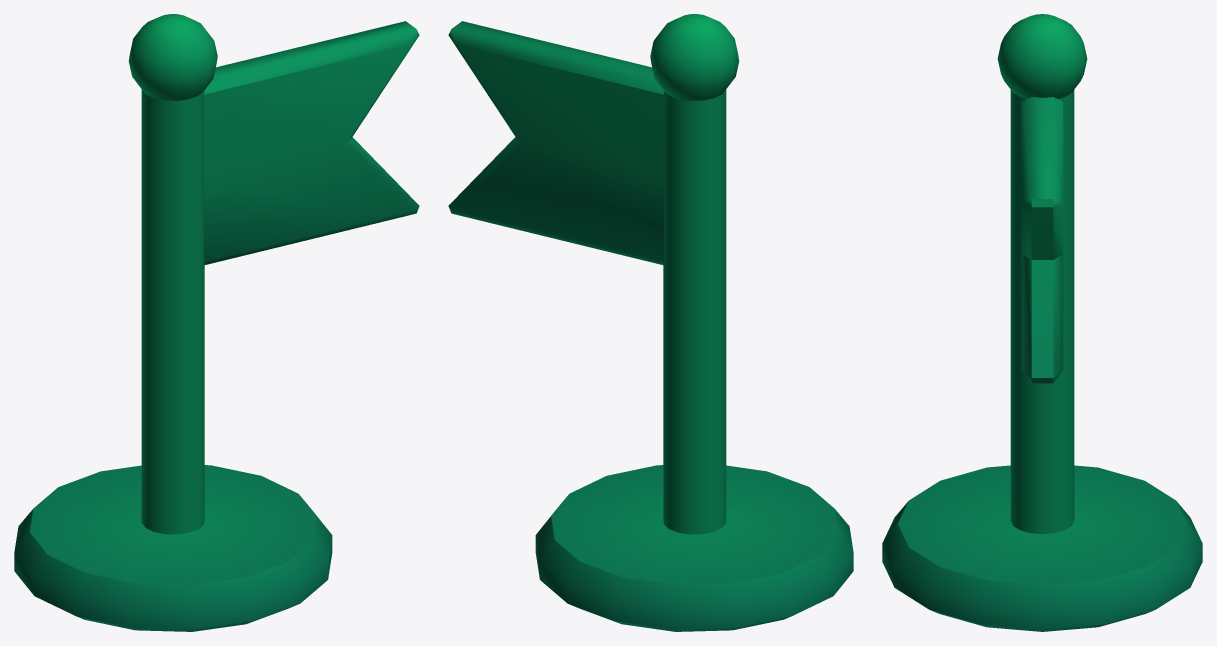
File: flag_B_green.obj
The picture shows the model from 3 angles, left to right: view 1: azimuth 30°, elevation 25°; view 2: azimuth 150°, elevation 25°; view 3: azimuth 270°, elevation 25°; orthographic projection.
Visible parts, largest first — view 1: flag_B_green; view 2: flag_B_green; view 3: flag_B_green.
Boxes of the visible parts, x1,y1,x2,y2 form: flag_B_green: (14, 14, 419, 631); flag_B_green: (448, 14, 853, 631); flag_B_green: (882, 14, 1202, 631).
Size of the model in its own units: 1.03 by 1.43 by 0.75.
1 material, 1 textured.
